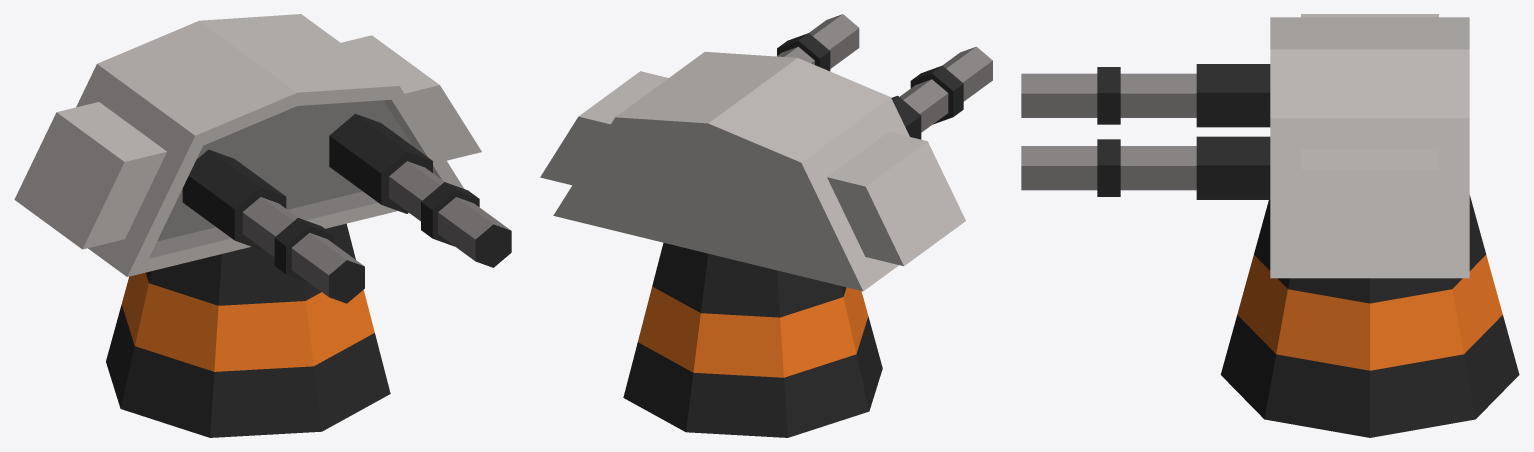
The model's file is scifi_scifi-turret-head-cannon-small.fbx.
3 views of the same model, side by side, from view 1: azimuth 30°, elevation 25°; view 2: azimuth 150°, elevation 25°; view 3: azimuth 270°, elevation 25° (orthographic). The views are drawn at different scales.
Visible parts, largest first — view 1: scifi_scifi_turret_head_cannon_small; view 2: scifi_scifi_turret_head_cannon_small; view 3: scifi_scifi_turret_head_cannon_small.
Boxes of the visible parts, bbox=[...] form: scifi_scifi_turret_head_cannon_small: bbox=[14, 14, 511, 437]; scifi_scifi_turret_head_cannon_small: bbox=[540, 14, 992, 437]; scifi_scifi_turret_head_cannon_small: bbox=[1021, 14, 1519, 437].
Bounding box in the file's own units: 168 × 129 × 178.
